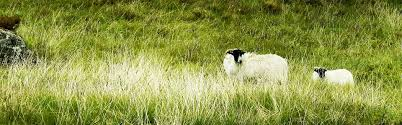sheep: (224, 47, 290, 86), (312, 62, 362, 95)
